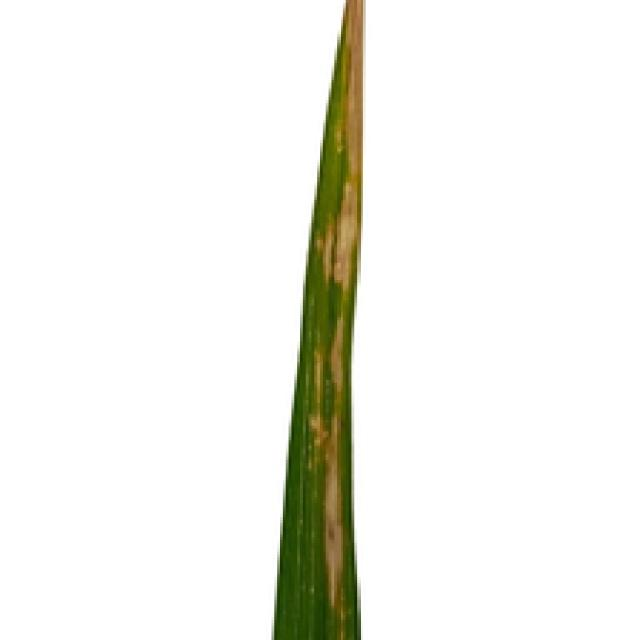Rice___Bacterial_Leaf_Blight: (271, 0, 365, 637)
